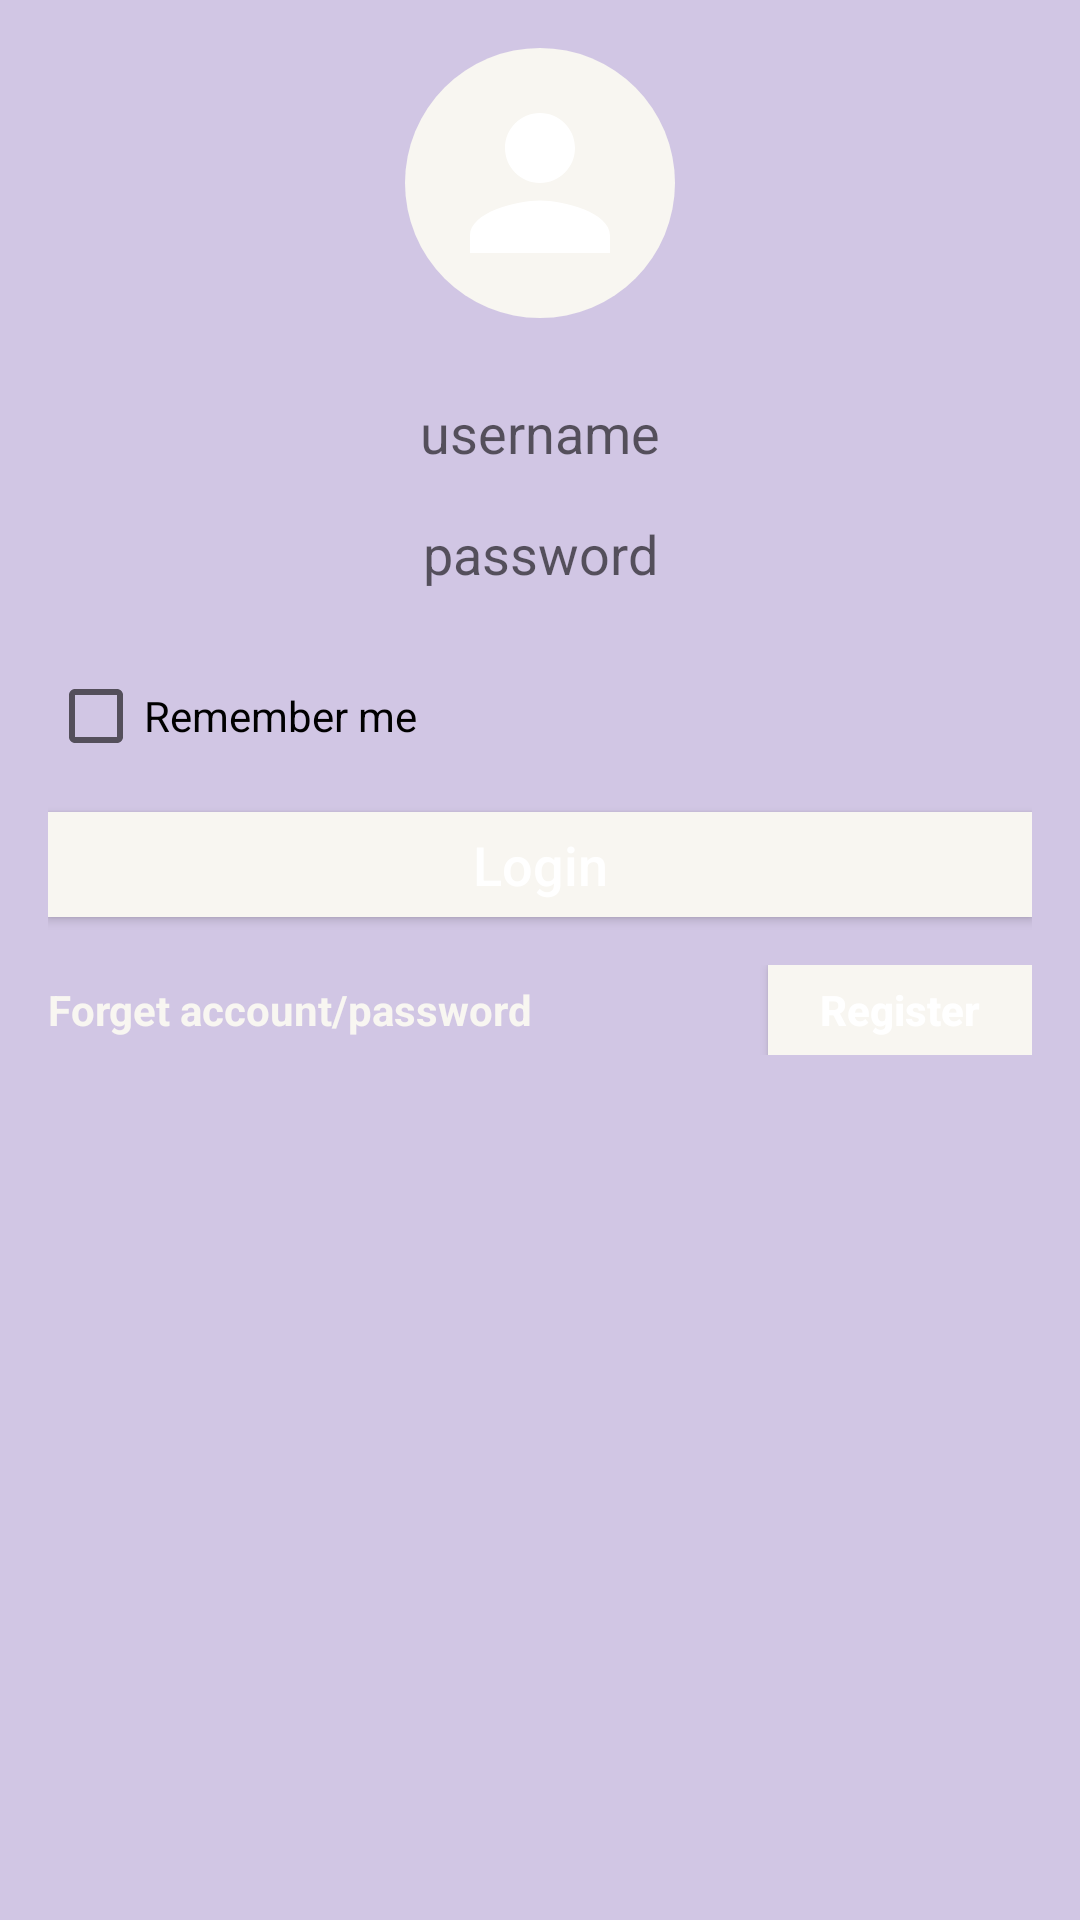

Named icons in this screenshot (1080x1920) and their centers, (x,y):
person: (540,183)
